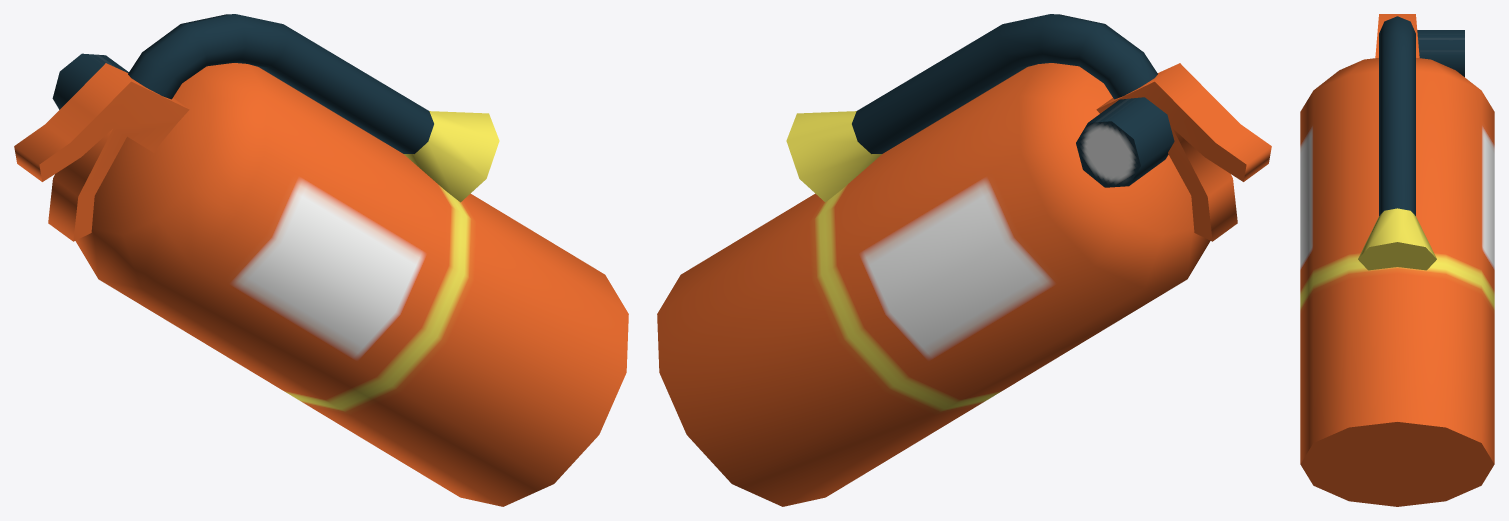
Rendered from back_acc_13.FBX.
The picture shows the model from 3 angles, left to right: view 1: azimuth 30°, elevation 25°; view 2: azimuth 150°, elevation 25°; view 3: azimuth 270°, elevation 25°; orthographic projection. The views are drawn at different scales.
Parts seen in each view (by area): view 1: back_acc_13; view 2: back_acc_13; view 3: back_acc_13.
Boxes of the visible parts, left/top/right/bottom form: back_acc_13: left=14, top=14, right=628, bottom=506; back_acc_13: left=657, top=14, right=1271, bottom=506; back_acc_13: left=1300, top=14, right=1494, bottom=506.
Bounding box in the file's own units: 19.53 × 17.4 × 7.78.
